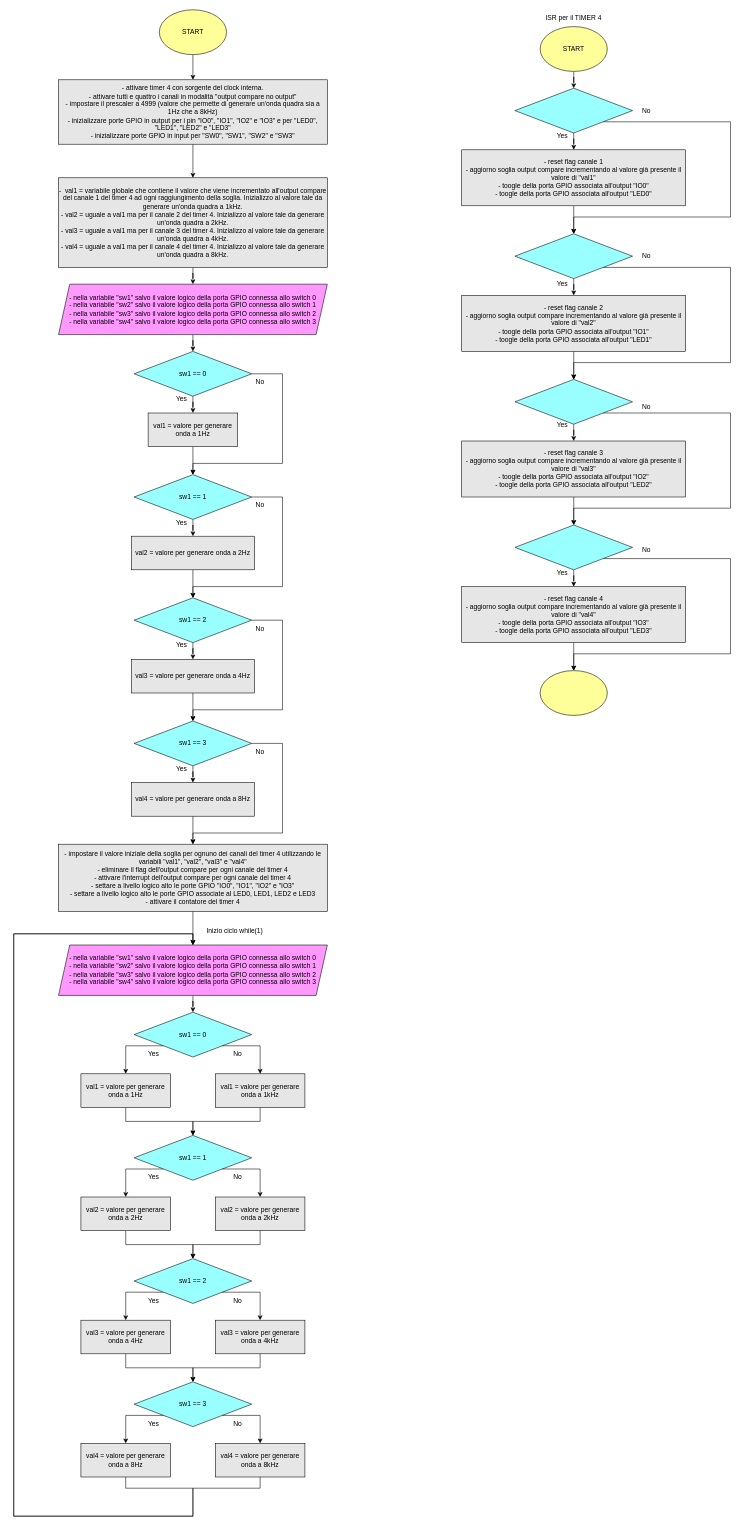
The diagram is 745 pixels wide and 1530 high, and some of its shapes have lost their labels. The shapes that lost their labels are listed below. From the top down, each one's box as (x1, y1, x2, y2) in pixels, then its label:
(514, 88, 633, 133): flag del canale 1 attivo?
(514, 233, 633, 279): flag del canale 2 attivo?
(514, 379, 633, 424): flag del canale 3 attivo?
(514, 524, 633, 570): flag del canale 4 attivo?
(540, 670, 607, 715): END
